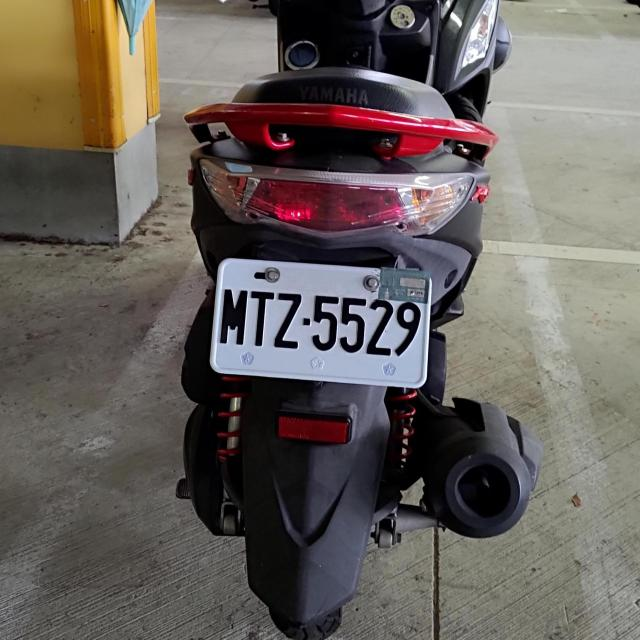W: (209, 257, 430, 385)
